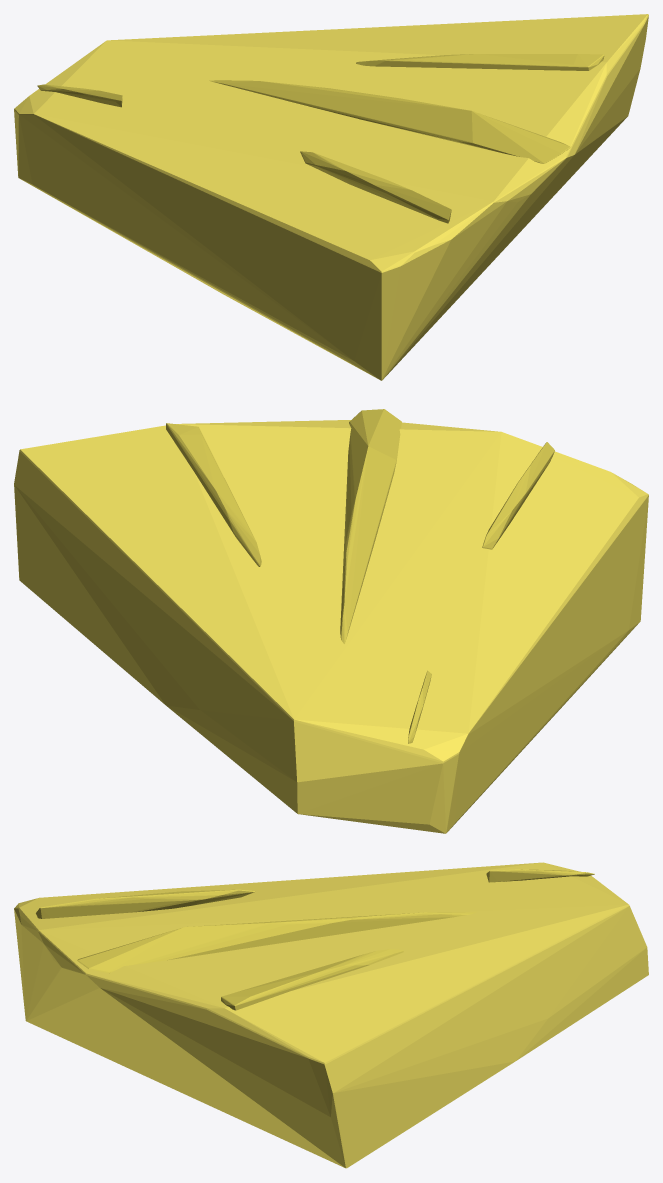
Rendered from pineapple_bit.glb.
3 views of the same model, one above another, from view 1: azimuth 30°, elevation 25°; view 2: azimuth 150°, elevation 25°; view 3: azimuth 270°, elevation 25° (orthographic). The views are drawn at different scales.
Visible parts, largest first — view 1: LODGroup_7, LODGroup_11, LODGroup_9, LODGroup_15, LODGroup_13; view 2: LODGroup_7, LODGroup_11, LODGroup_9, LODGroup_15; view 3: LODGroup_7, LODGroup_11, LODGroup_15, LODGroup_9, LODGroup_13.
Boxes of the visible parts, bbox=[...] form: LODGroup_7: bbox=[14, 14, 648, 380]; LODGroup_11: bbox=[209, 80, 570, 163]; LODGroup_9: bbox=[356, 54, 604, 70]; LODGroup_15: bbox=[300, 151, 451, 223]; LODGroup_13: bbox=[37, 84, 122, 107]; LODGroup_7: bbox=[14, 420, 648, 833]; LODGroup_11: bbox=[340, 409, 401, 643]; LODGroup_9: bbox=[166, 423, 261, 566]; LODGroup_15: bbox=[482, 442, 554, 549]; LODGroup_7: bbox=[14, 862, 648, 1168]; LODGroup_11: bbox=[77, 912, 475, 973]; LODGroup_15: bbox=[36, 889, 254, 918]; LODGroup_9: bbox=[221, 949, 403, 1010]; LODGroup_13: bbox=[486, 869, 594, 882].
Size of the model in its own units: 0.0525 by 0.0169 by 0.0546.
